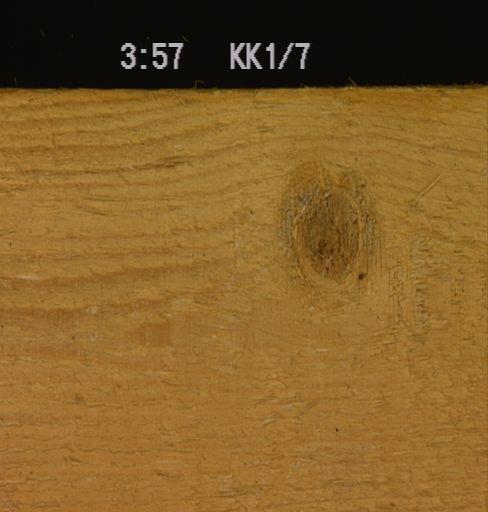sound_knot: (280, 167, 378, 295)
